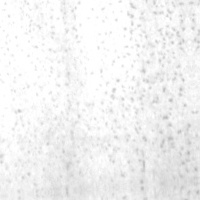pitted_surface: (4, 0, 97, 190), (107, 0, 199, 184)
